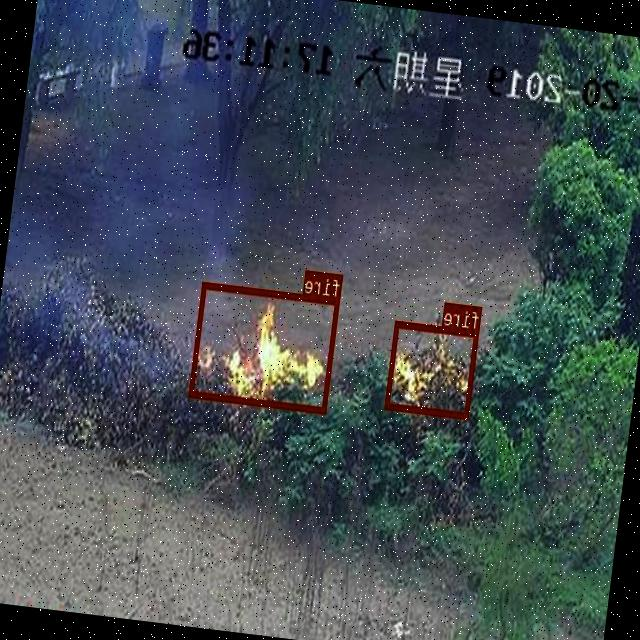fire: (189, 280, 340, 413), (386, 318, 480, 418)
